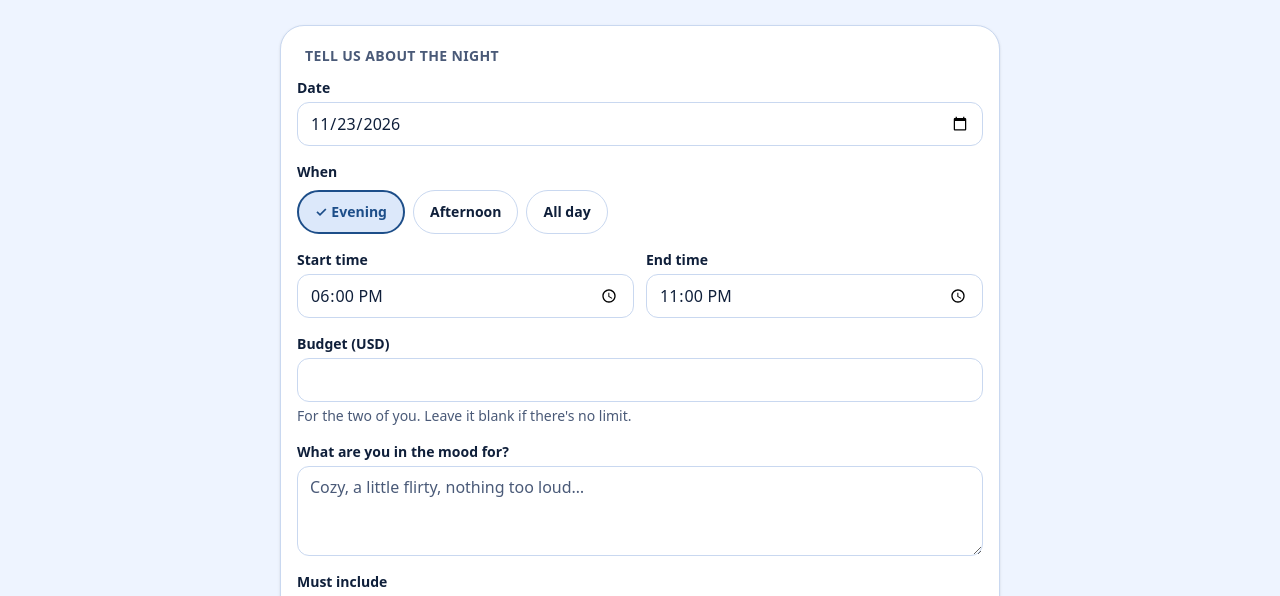
Test: PlanPage › explains an invalid budget and blocks both submit buttons
Expected: the text "Enter a budget of 0 or more" is not shown
Type "-5" into the number field labelled "Budget (USD)" at (640, 380), box [297,358,983,402]
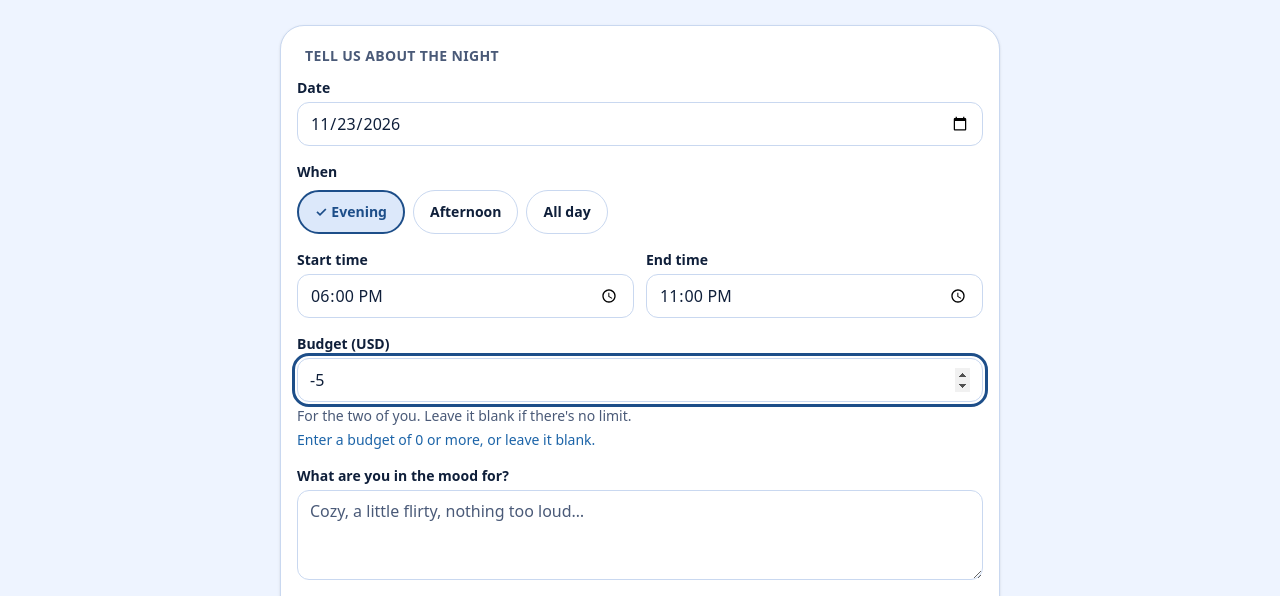
Expected: the number field labelled "Budget (USD)" is marked as invalid, [297,358,983,402]
Type "cozy" into the text box labelled "What are you in the mood for?" at (640, 535), box [297,490,983,580]
(page scrolled)
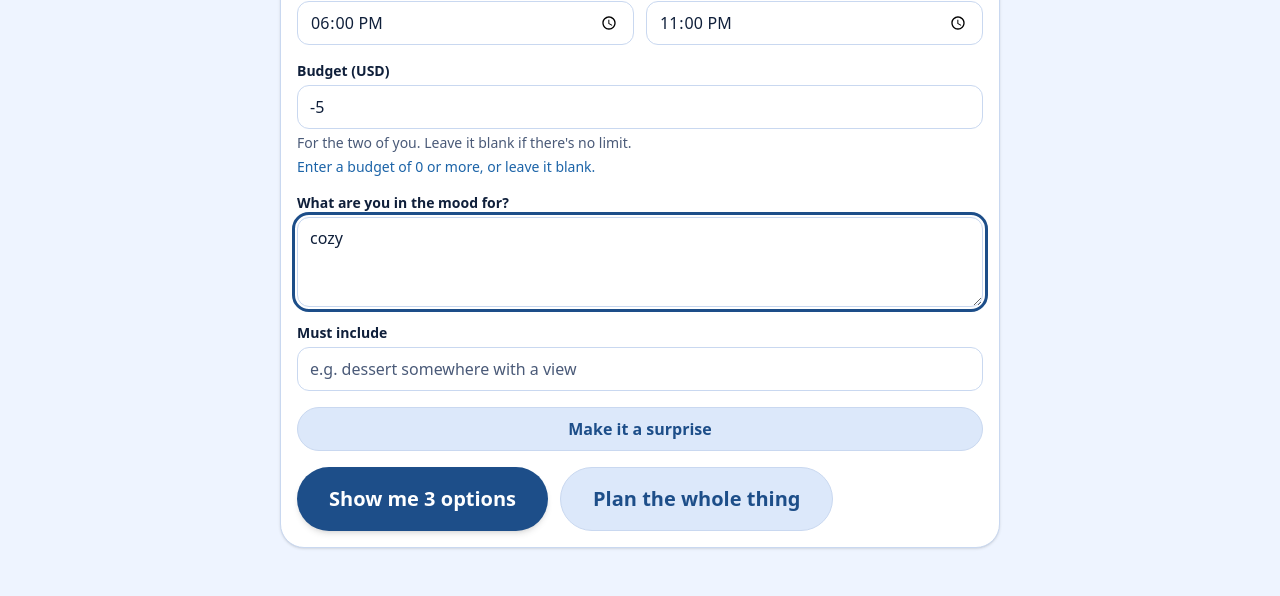
Click the button "Show me 3 options" at (422, 499), box [297,467,548,531]
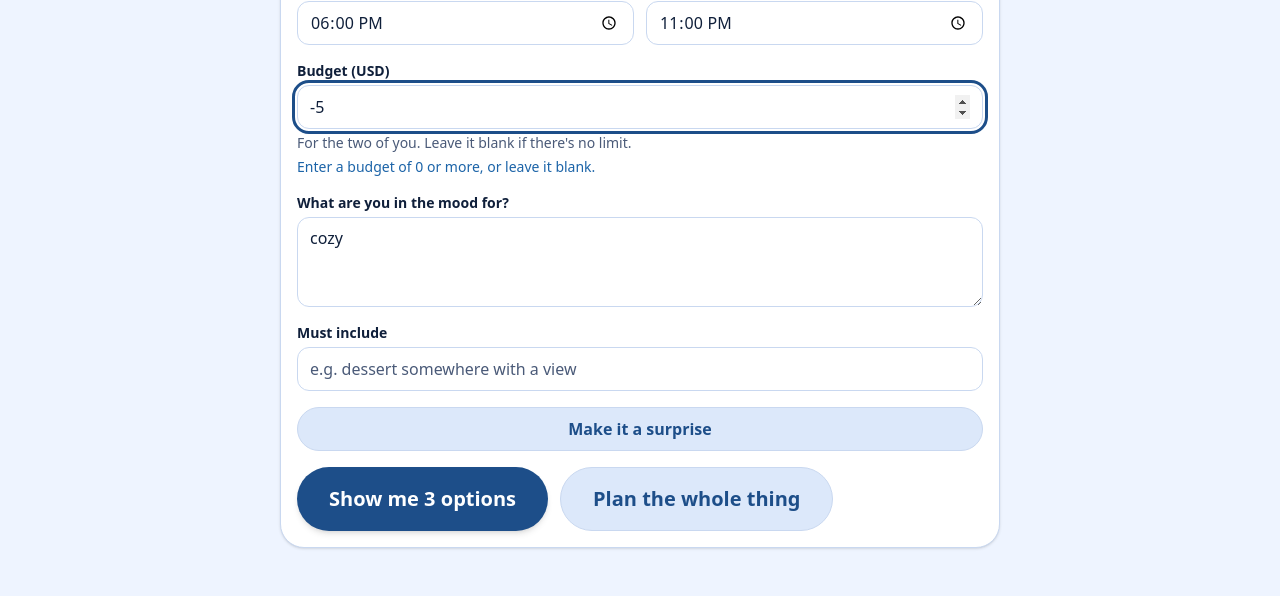
Click the button "Plan the whole thing" at (697, 499), box [560,467,833,531]
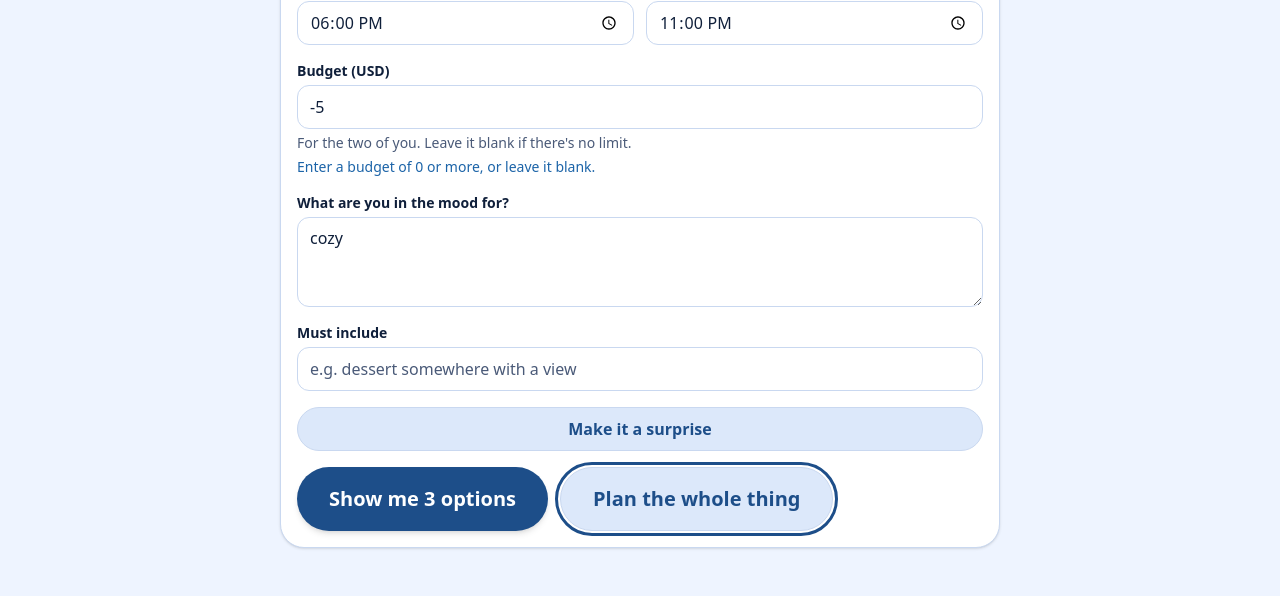
Clear the number field labelled "Budget (USD)" at (640, 107), box [297,85,983,129]
(page scrolled)
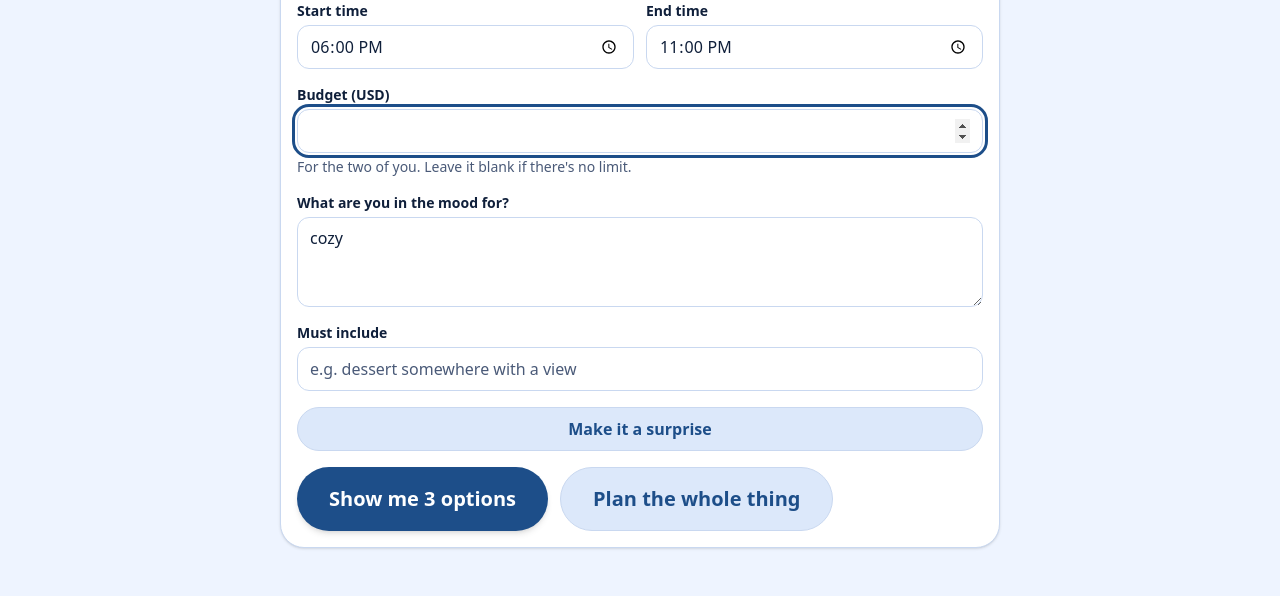
Expected: the text "Enter a budget of 0 or more" is gone
